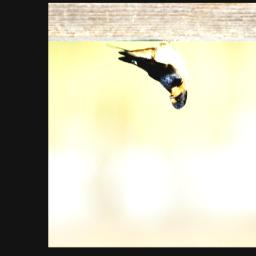Swallow: (104, 37, 189, 110)
